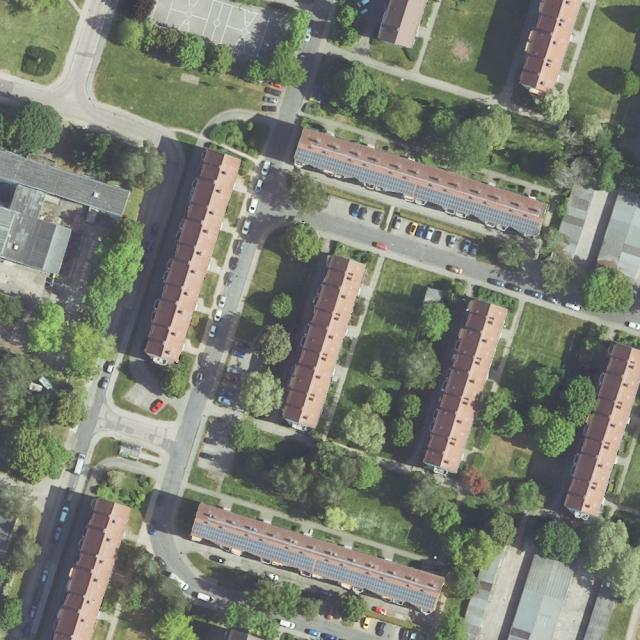PV: (191, 521, 436, 610), (295, 146, 539, 235)
